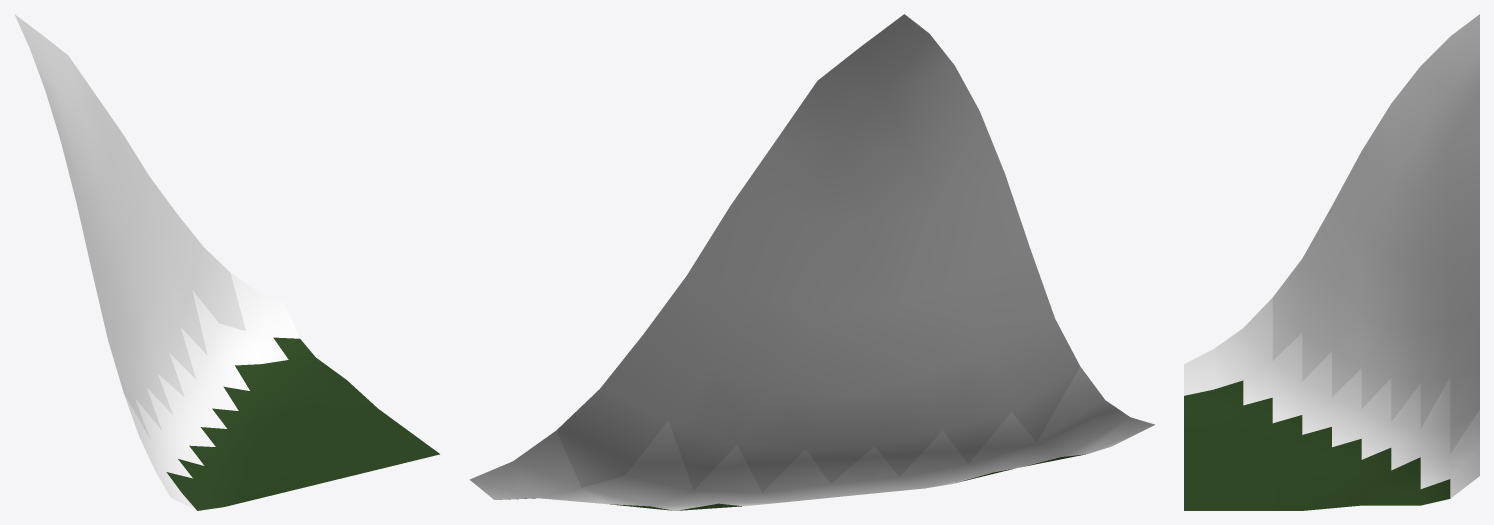
3 renders of one model, left to right at view 1: azimuth 30°, elevation 25°; view 2: azimuth 150°, elevation 25°; view 3: azimuth 270°, elevation 25°, orthographic. The views are drawn at different scales.
Visible parts, largest first — view 1: TerrainModel.098; view 2: TerrainModel.098; view 3: TerrainModel.098.
Boxes of the visible parts, <box> form: TerrainModel.098: <box>14,14,439,510</box>; TerrainModel.098: <box>469,14,1154,510</box>; TerrainModel.098: <box>1184,14,1479,510</box>.
Size of the model in its own units: 19608 by 27580 by 19608.
